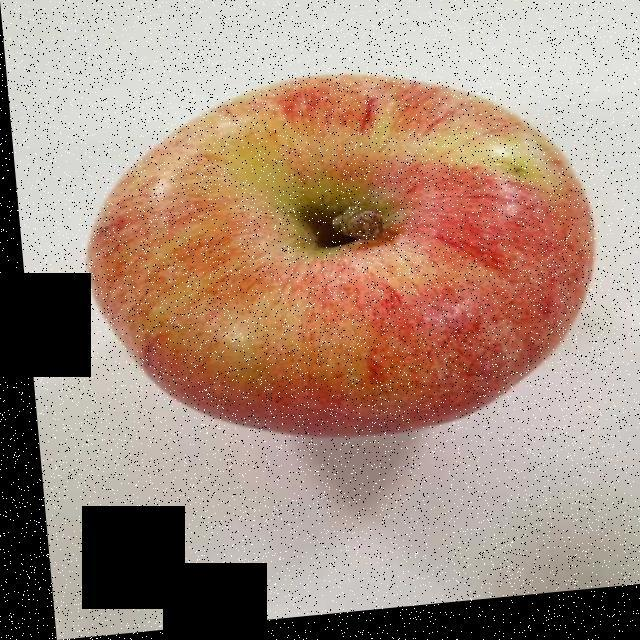apple: (92, 86, 582, 437)
